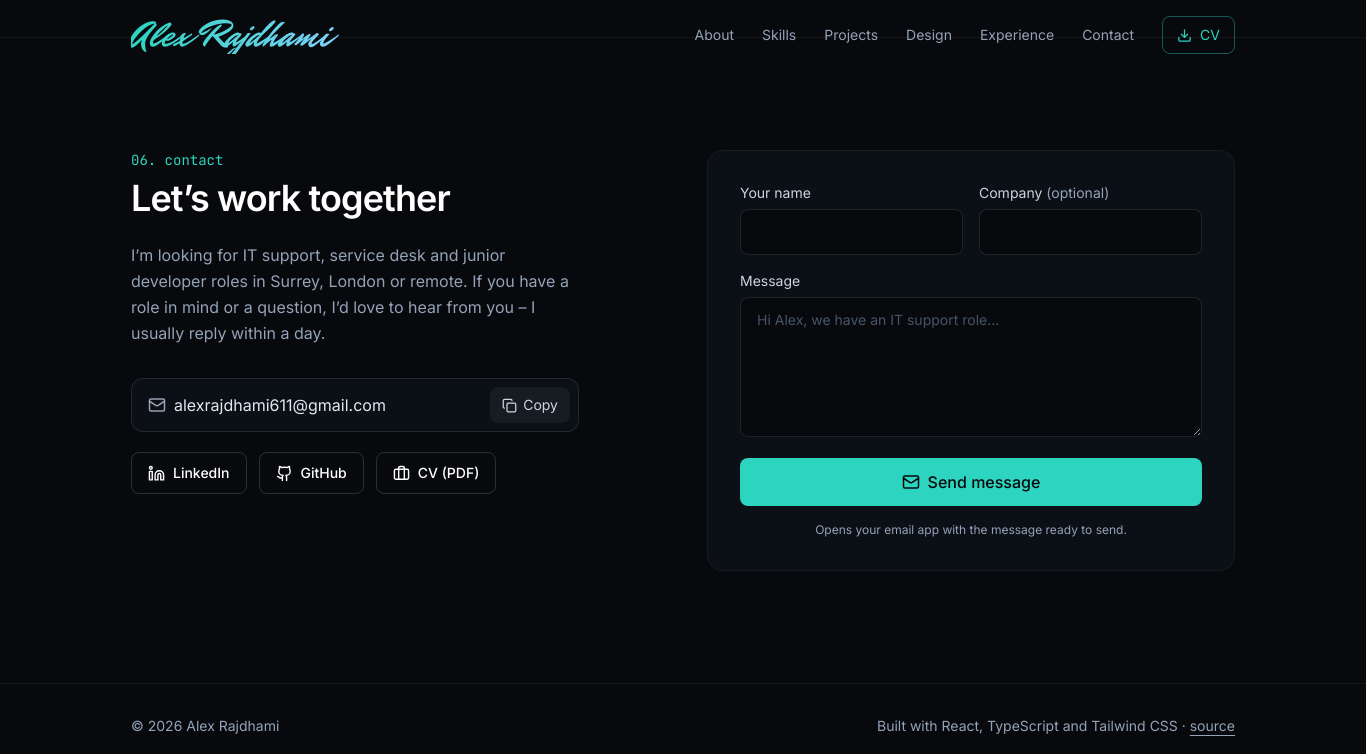
contact form › asks for a name and message before opening email
(page scrolled)
Click the button "Send message".
click(971, 482)  # box [740,458,1202,506]
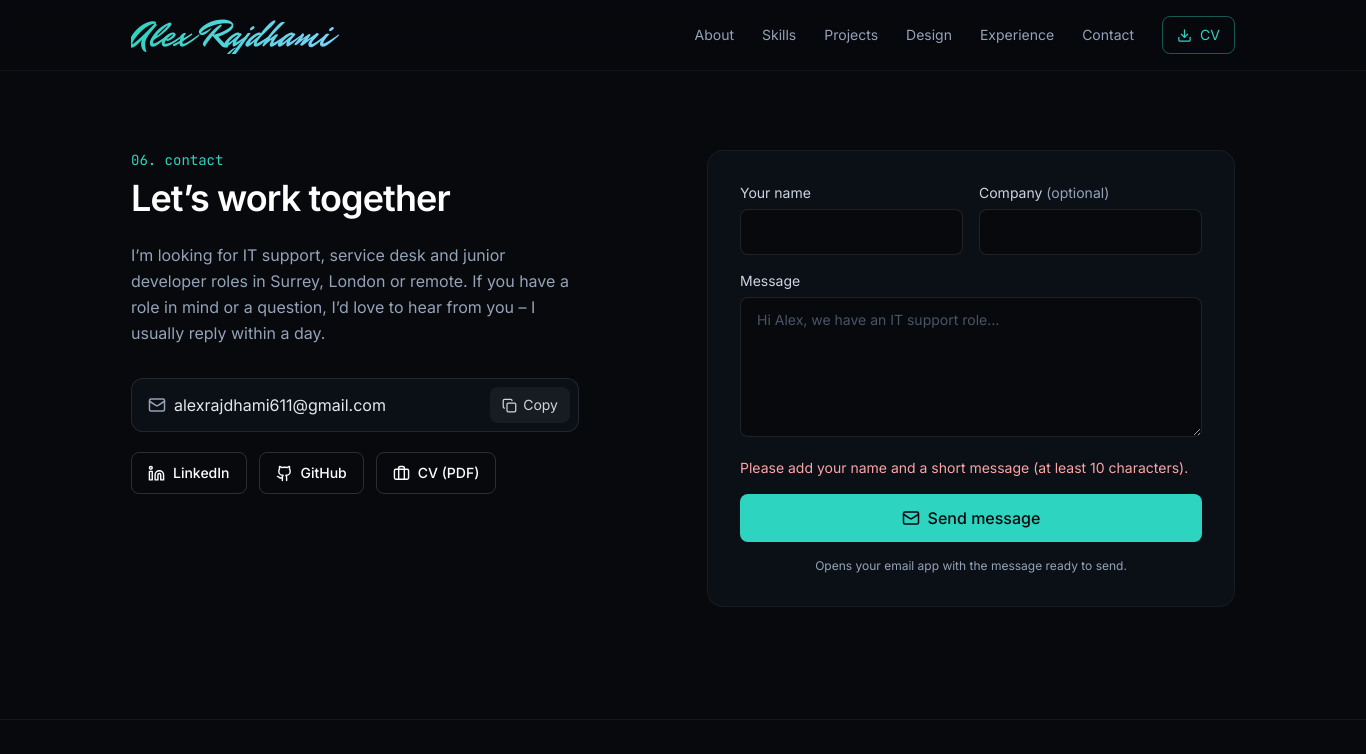
Now the message shows "name", box [740,459,1188,476]
